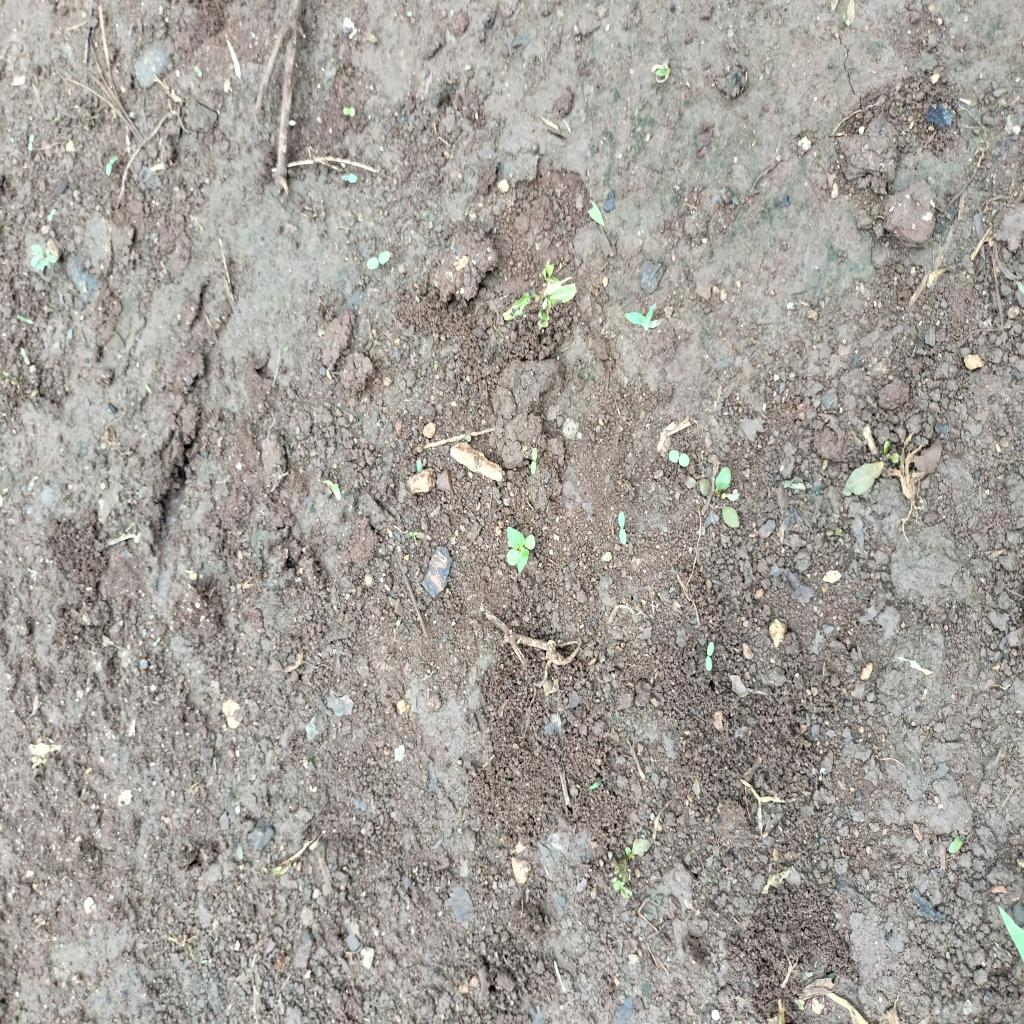bayi: (505, 526, 537, 576), (366, 246, 394, 271), (704, 633, 718, 676), (667, 447, 692, 471), (616, 506, 630, 548), (103, 154, 121, 177), (529, 442, 541, 476), (339, 170, 359, 185), (339, 105, 359, 118), (25, 132, 35, 153), (46, 206, 57, 223), (152, 634, 162, 650), (193, 65, 202, 79)
buah daun: (27, 241, 56, 276)
rambat atas: (622, 300, 668, 338)
